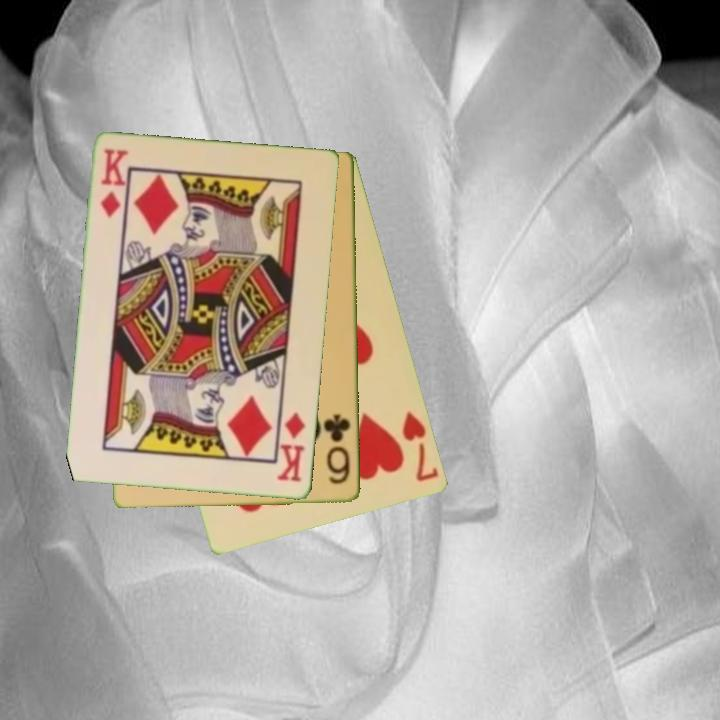6c: (321, 411, 354, 487)
7h: (399, 408, 442, 485)
Kd: (274, 409, 309, 485), (97, 146, 130, 221)
